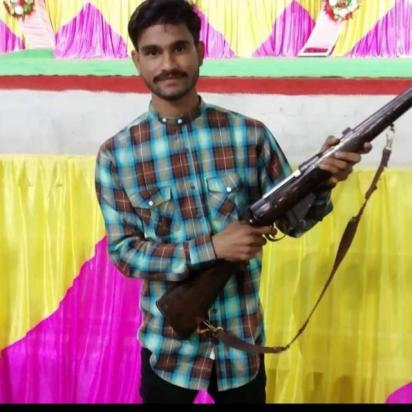Gun: (153, 86, 412, 344)
